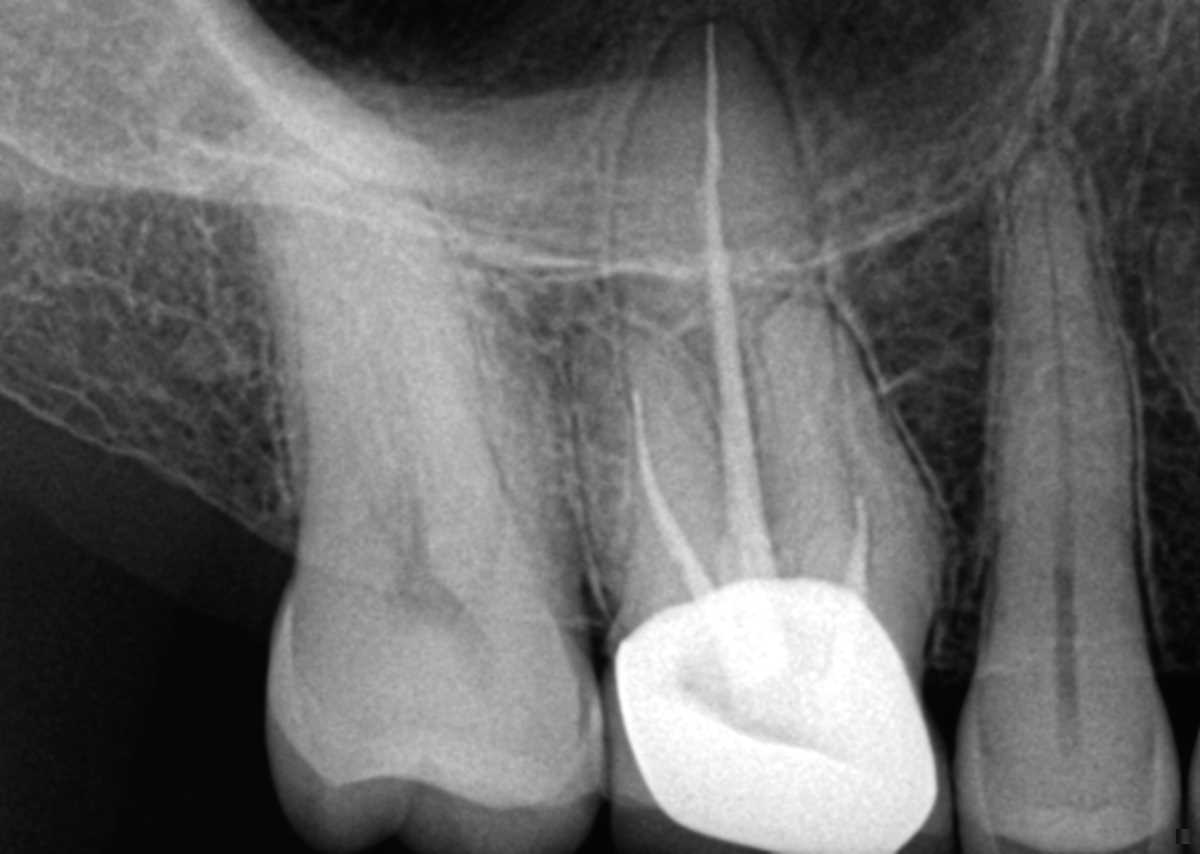Distal Canal: (338, 393, 398, 541)
Distal Root: (568, 306, 779, 601), (292, 277, 407, 560)
Main Canal: (1046, 161, 1079, 657)
Main Root: (979, 136, 1145, 665)
Mesial Root: (757, 287, 947, 624), (444, 306, 584, 588)
Palatal Root: (615, 14, 868, 612), (292, 99, 541, 599)
Root Canal Filling: (701, 22, 774, 590), (631, 389, 716, 599), (843, 496, 871, 599)
